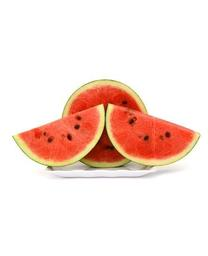watermelon: (13, 77, 200, 170)
